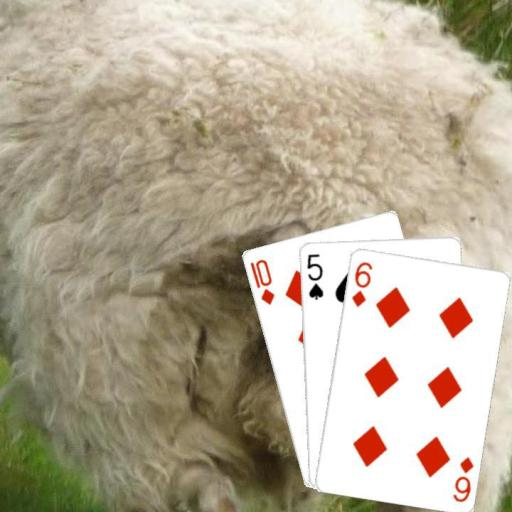10D: (246, 256, 276, 306)
5S: (304, 250, 324, 301)
6D: (449, 453, 475, 503), (349, 258, 374, 308)
